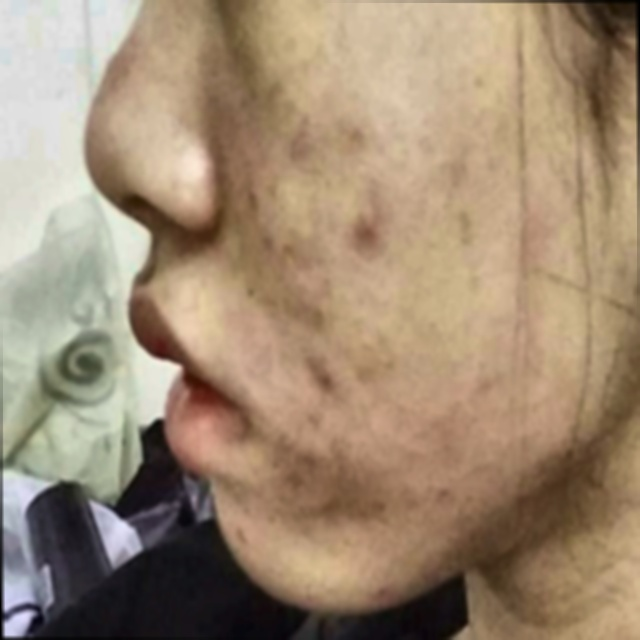comedone: (345, 203, 389, 263), (296, 275, 337, 328), (289, 123, 319, 174), (313, 352, 340, 399)
